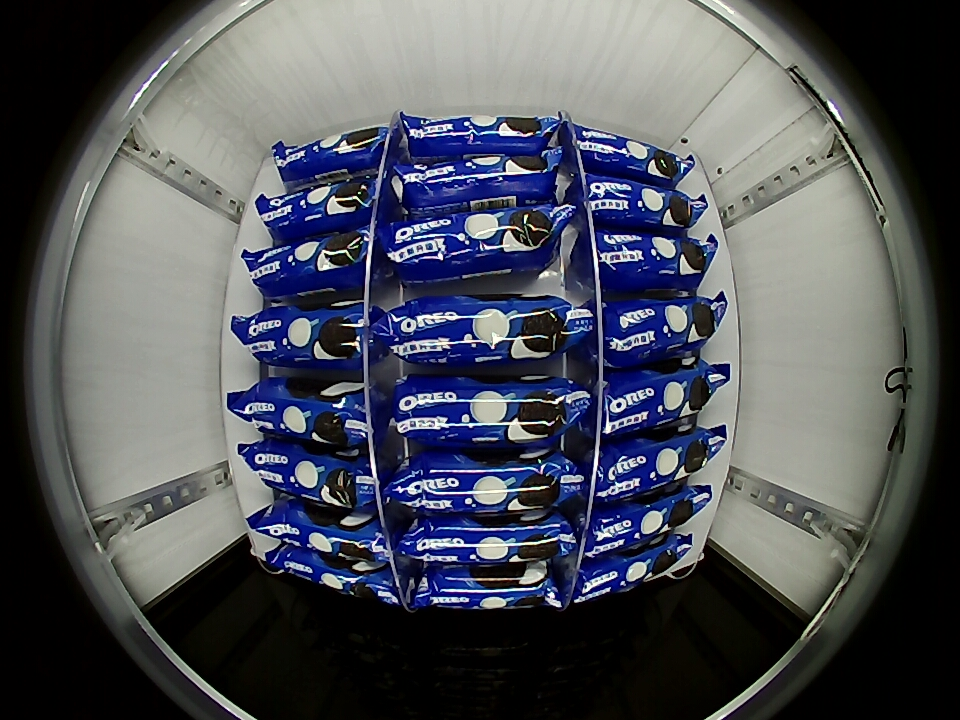aoliao: (389, 373, 587, 451), (378, 293, 582, 368), (382, 205, 565, 285), (383, 451, 564, 516), (238, 378, 381, 451), (395, 151, 556, 212), (257, 541, 398, 610), (395, 513, 576, 566), (231, 302, 367, 372), (602, 294, 729, 367), (594, 432, 722, 504), (602, 364, 724, 438), (582, 494, 714, 561), (242, 230, 363, 301), (589, 227, 717, 293), (396, 110, 561, 161), (567, 121, 696, 185), (243, 437, 356, 510), (255, 496, 374, 565), (255, 173, 375, 240), (407, 561, 561, 613), (580, 171, 706, 231), (272, 123, 390, 186), (569, 543, 680, 606)
